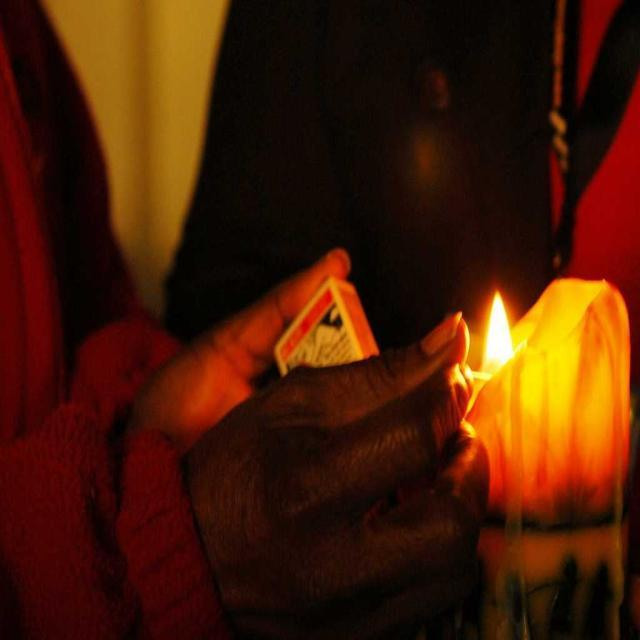Fire: (484, 290, 514, 375)
